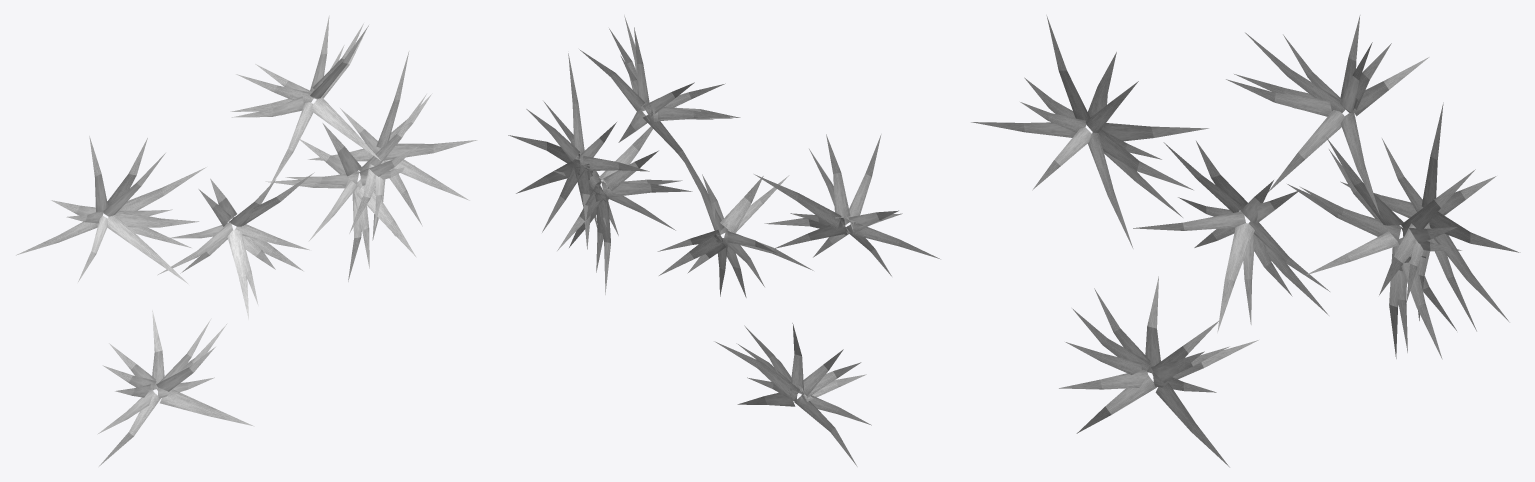
File: SM_Grass_Dead.obj
3 views of the same model, side by side, from view 1: azimuth 30°, elevation 25°; view 2: azimuth 150°, elevation 25°; view 3: azimuth 330°, elevation 25° (orthographic). The views are drawn at different scales.
Parts seen in each view (by area): view 1: SM_Grass_Dead; view 2: SM_Grass_Dead; view 3: SM_Grass_Dead.
Part boxes in pixels (<box>): SM_Grass_Dead: <box>16,15,477,466</box>; SM_Grass_Dead: <box>508,15,940,466</box>; SM_Grass_Dead: <box>971,15,1520,467</box>.
Bounding box in the file's own units: 259 × 216 × 31.75.
Materials: 2 (2 with a texture image).
